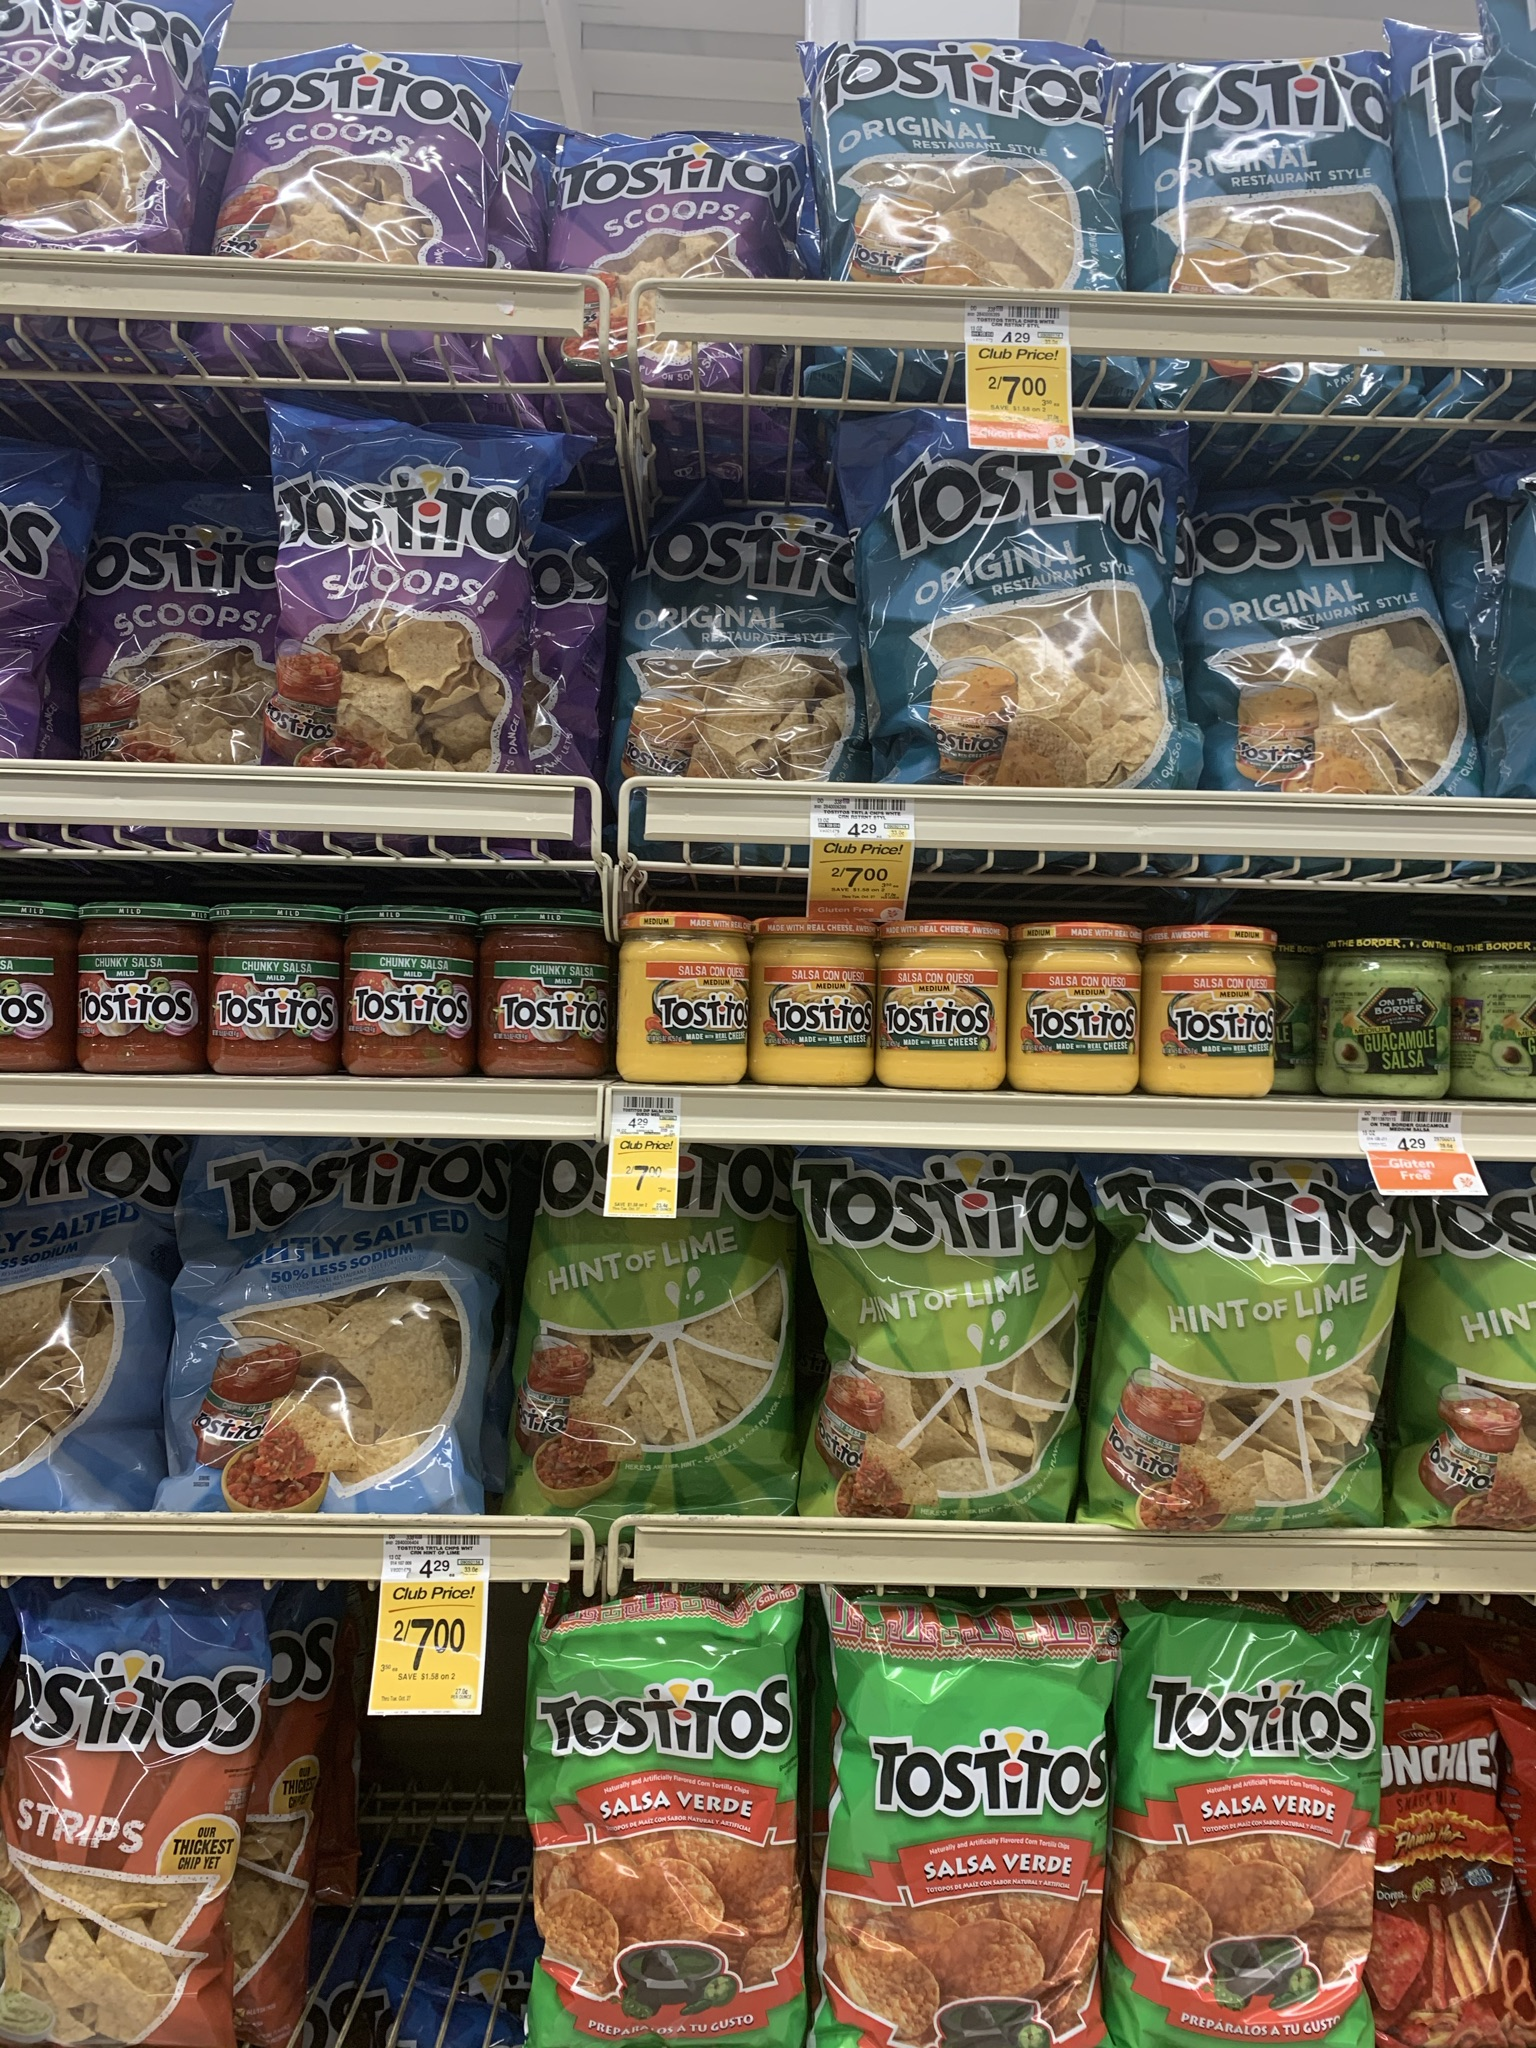chip: (2, 1588, 282, 2048), (873, 413, 1187, 798), (791, 1147, 1099, 1532), (186, 1143, 492, 1526), (1108, 1168, 1407, 1532), (841, 1627, 1099, 2048), (1134, 1619, 1384, 2048), (544, 1642, 805, 2048), (553, 1142, 784, 1534), (1125, 47, 1409, 361), (797, 34, 1126, 305), (273, 421, 516, 785), (1187, 481, 1441, 810), (532, 118, 799, 398), (631, 489, 860, 792), (258, 48, 508, 319), (2, 1142, 171, 1505), (65, 508, 298, 755), (1431, 1187, 1536, 1535)
